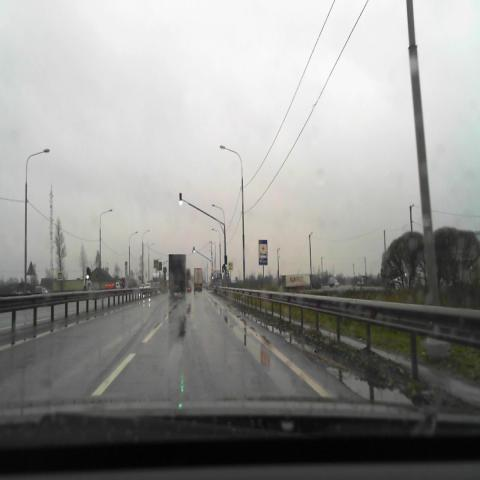7_2: (259, 240, 267, 265)
